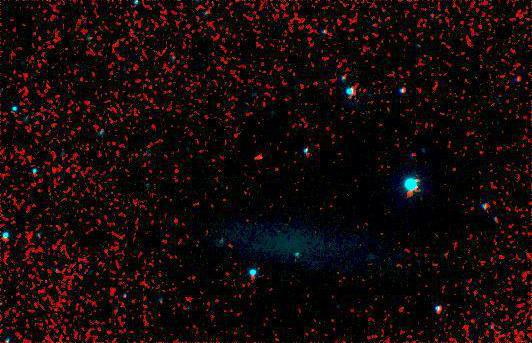star: (240, 141, 270, 171)
